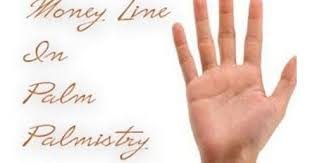palm: (188, 71, 270, 150)
